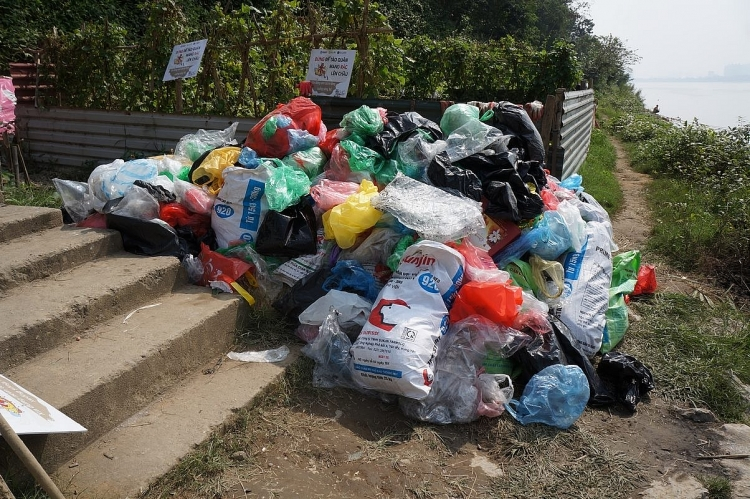plastic bag: (50, 98, 659, 438)
